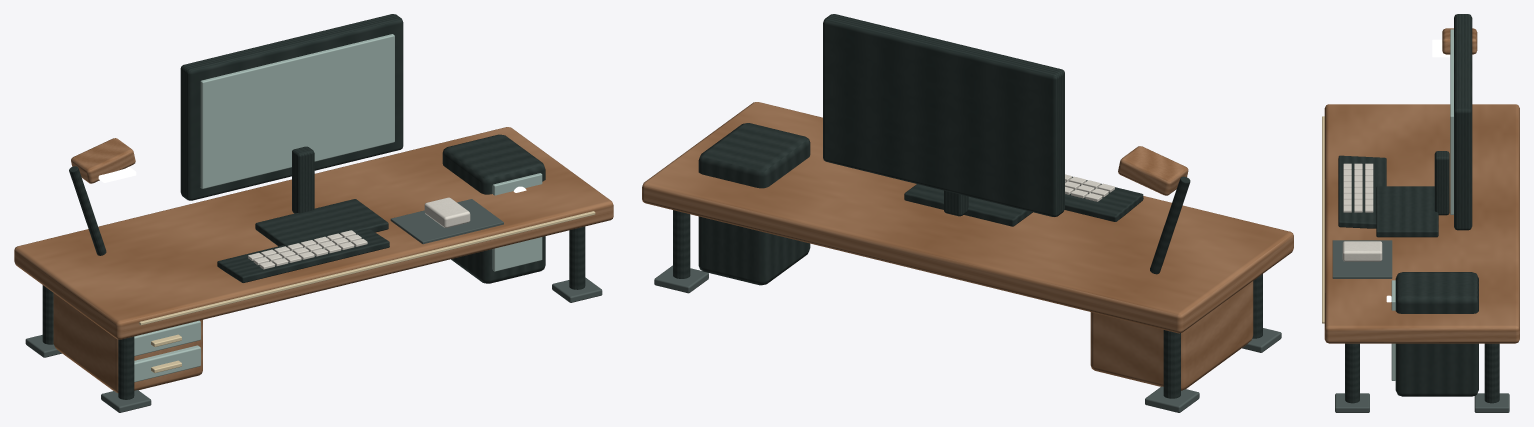
Rendered from study-workstation.glb.
3 renders of one model, left to right at view 1: azimuth 30°, elevation 25°; view 2: azimuth 150°, elevation 25°; view 3: azimuth 270°, elevation 25°, orthographic. The views are drawn at different scales.
Visible parts, largest first — view 1: Workstation_Desktop, Workstation_Monitor_Recess, Workstation_Monitor_Frame, Workstation_Tower, Workstation_Drawer, Workstation_Monitor_Base, Workstation_Keyboard, Workstation_Desktop_Inlay, Workstation_MousePad, Workstation_TowerInset, Workstation_Lamp_Head, Workstation_Monitor_Stem (+9 smaller); view 2: Workstation_Desktop, Workstation_Monitor_Frame, Workstation_Tower, Workstation_Drawer, Workstation_Lamp_Head, Workstation_Monitor_Base, Workstation_Keyboard, Workstation_Leg_-2.9_0.84, Workstation_Leg_2.9_0.84, Workstation_Lamp_Stem, Workstation_Foot_2.9_0.84, Workstation_Foot_-2.9_0.84 (+1 smaller); view 3: Workstation_Desktop, Workstation_Tower, Workstation_Monitor_Frame, Workstation_Monitor_Base, Workstation_Keyboard, Workstation_MousePad, Workstation_Monitor_Stem, Workstation_Leg_2.9_0.84, Workstation_Leg_2.9_-0.84, Workstation_Mouse, Workstation_Monitor_Recess, Workstation_Desktop_Inlay (+5 smaller).
Boxes of the visible parts, <box> form: Workstation_Desktop: <box>14,127,613,339</box>; Workstation_Monitor_Recess: <box>200,34,394,188</box>; Workstation_Monitor_Frame: <box>180,14,403,200</box>; Workstation_Tower: <box>442,134,545,283</box>; Workstation_Drawer: <box>53,293,202,392</box>; Workstation_Monitor_Base: <box>255,199,388,247</box>; Workstation_Keyboard: <box>217,228,389,282</box>; Workstation_Desktop_Inlay: <box>139,211,595,325</box>; Workstation_MousePad: <box>390,199,503,244</box>; Workstation_TowerInset: <box>492,173,542,271</box>; Workstation_Lamp_Head: <box>71,138,135,183</box>; Workstation_Monitor_Stem: <box>292,146,314,213</box>; Workstation_Desktop: <box>642,102,1293,333</box>; Workstation_Monitor_Frame: <box>823,14,1064,216</box>; Workstation_Tower: <box>698,123,810,285</box>; Workstation_Drawer: <box>1090,281,1253,390</box>; Workstation_Lamp_Head: <box>1118,146,1188,195</box>; Workstation_Monitor_Base: <box>904,184,1032,226</box>; Workstation_Keyboard: <box>1064,176,1143,221</box>; Workstation_Leg_-2.9_0.84: <box>1163,330,1180,398</box>; Workstation_Leg_2.9_0.84: <box>673,210,690,278</box>; Workstation_Lamp_Stem: <box>1150,176,1190,274</box>; Workstation_Foot_2.9_0.84: <box>654,265,708,293</box>; Workstation_Foot_-2.9_0.84: <box>1145,386,1199,412</box>; Workstation_Desktop: <box>1324,104,1519,343</box>; Workstation_Tower: <box>1395,272,1478,396</box>; Workstation_Monitor_Frame: <box>1454,14,1472,230</box>; Workstation_Monitor_Base: <box>1376,186,1438,237</box>; Workstation_Keyboard: <box>1338,155,1386,228</box>; Workstation_MousePad: <box>1332,240,1392,278</box>; Workstation_Monitor_Stem: <box>1434,151,1449,215</box>; Workstation_Leg_2.9_0.84: <box>1484,343,1499,403</box>; Workstation_Leg_2.9_-0.84: <box>1345,343,1359,403</box>; Workstation_Mouse: <box>1342,241,1382,261</box>; Workstation_Monitor_Recess: <box>1450,29,1453,214</box>; Workstation_Desktop_Inlay: <box>1322,116,1324,323</box>.
Bounding box in the file's own units: 6.4 × 3.23 × 2.38.
Materials: 11 (6 with a texture image).
